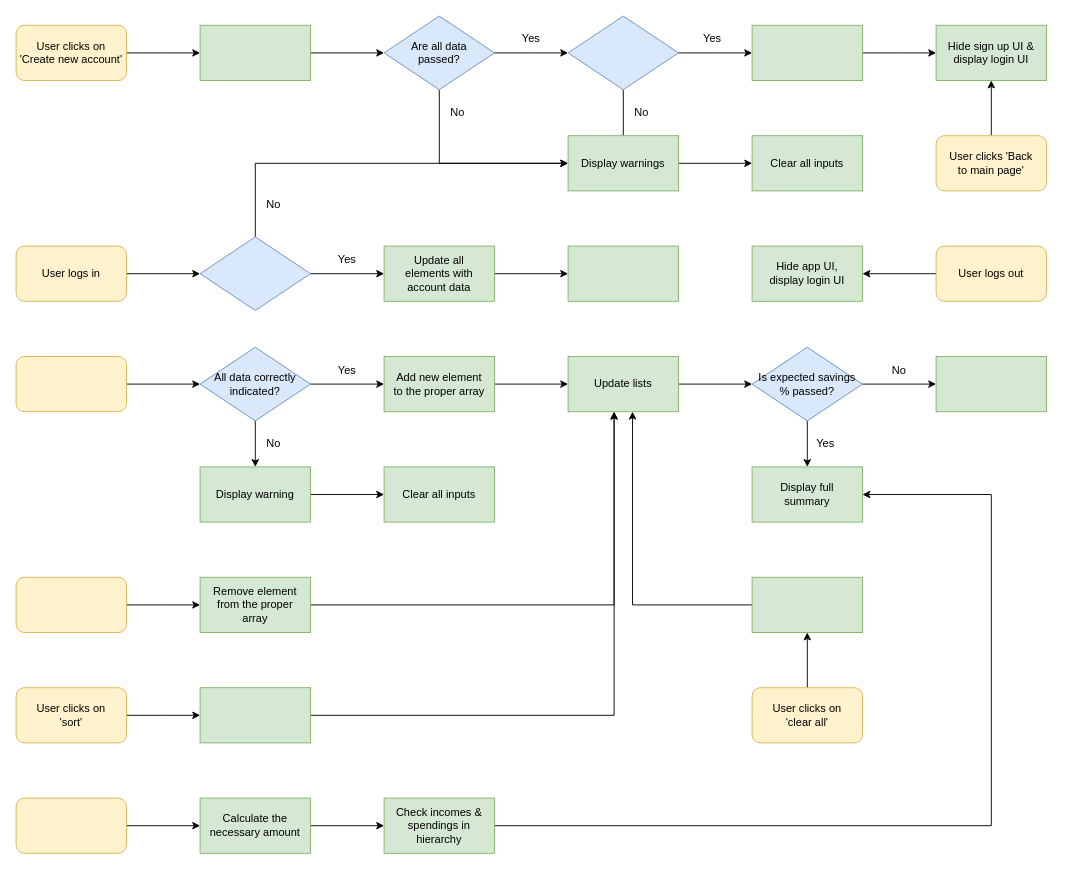
Some shapes in this 1070 by 869 pixel diagram are drawn without their labels. Here are the shapes that lost their labels. From the top down, the centre of each, then its label:
the point at 254,52: Display account creating UI
the point at 622,52: Are all data correct?
the point at 806,52: Add new account to the accounts array
the point at 254,273: Correct credentials?
the point at 622,273: Hide login UI, display app UI
the point at 70,384: User adds new income/spending
the point at 990,384: Display basic summary
the point at 70,604: User deletes income/spending
the point at 806,604: Remove all elements from both lists
the point at 254,715: Sort the lists by the value
the point at 70,825: User defines the expected savings percentage
